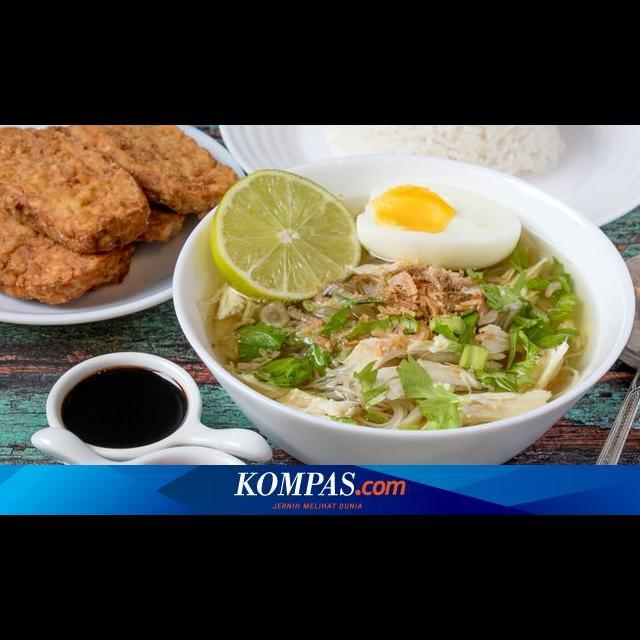Soto: (194, 166, 595, 436)
